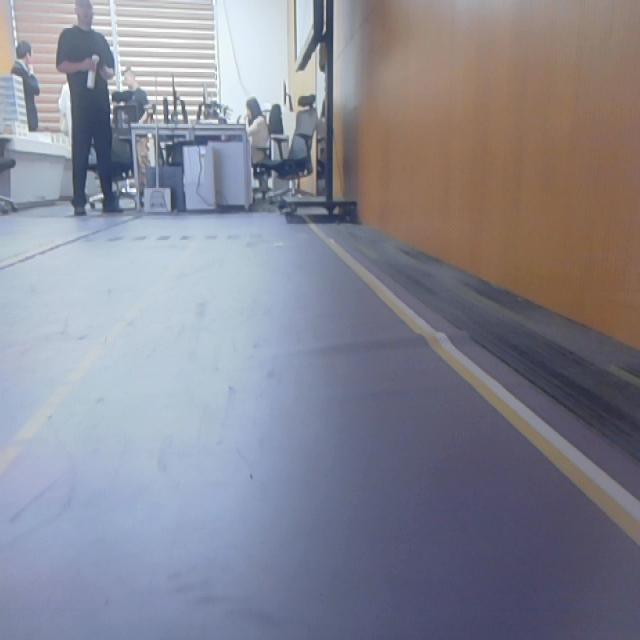left_lane: (0, 248, 193, 474)
right_lane: (318, 226, 640, 540)
